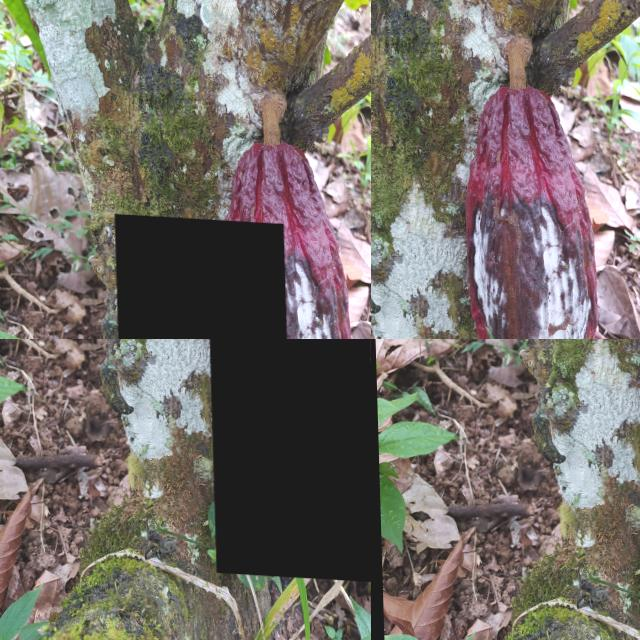Monilia: (422, 218, 573, 339)
Sana: (203, 339, 371, 576), (113, 212, 291, 339), (558, 190, 640, 339)
